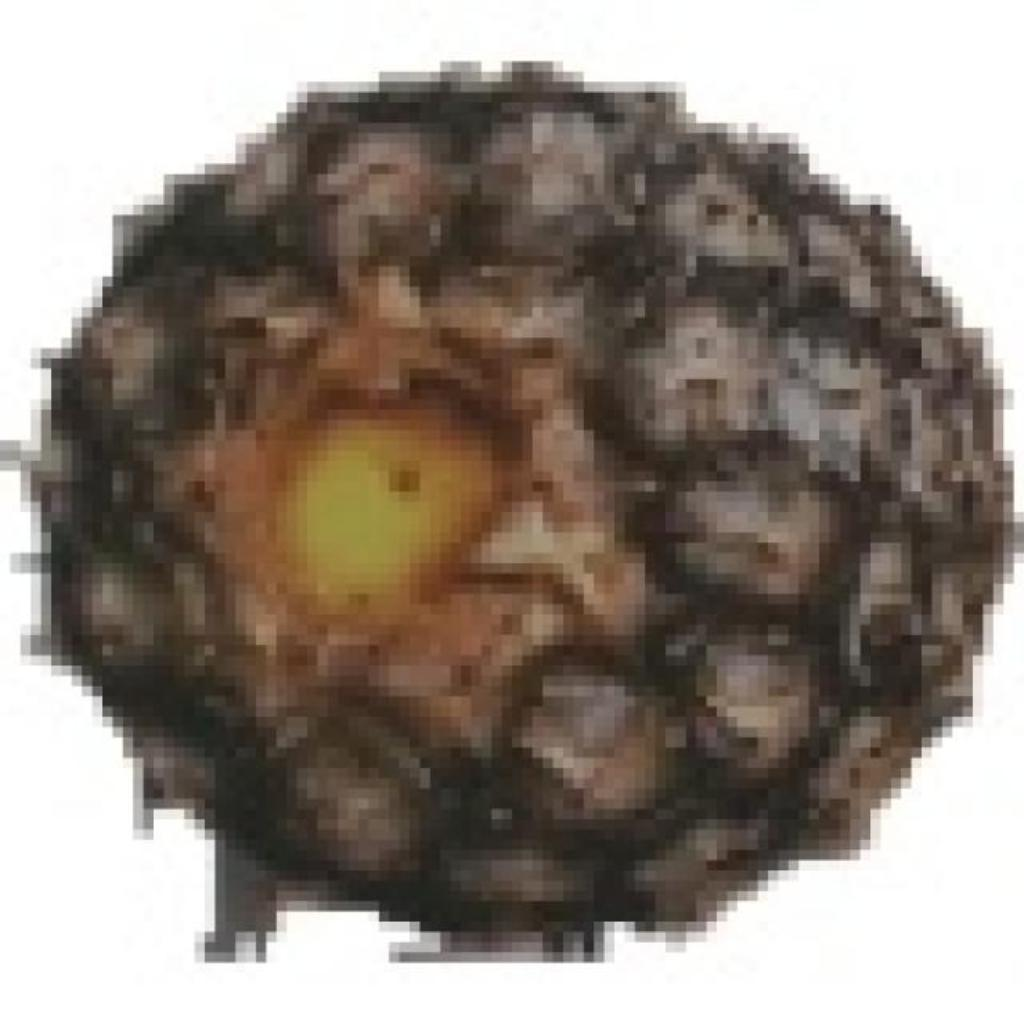pineapple: (72, 51, 1014, 932)
